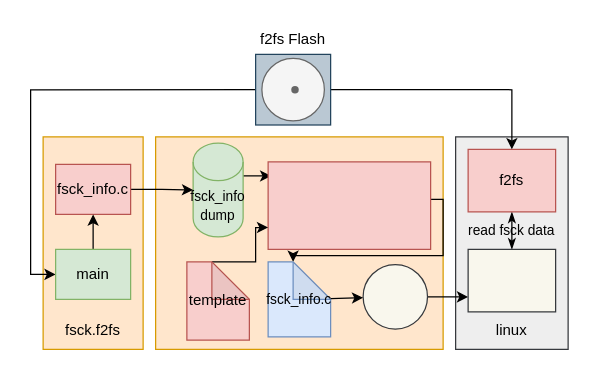
This 603x373 diagram has some shape labels left out. Here are the shapes that lost their labels. From the top down, the centre of each, then its label:
the point at 349,205: fsck_info_ko_generator
the point at 395,296: ko
the point at 511,280: module
